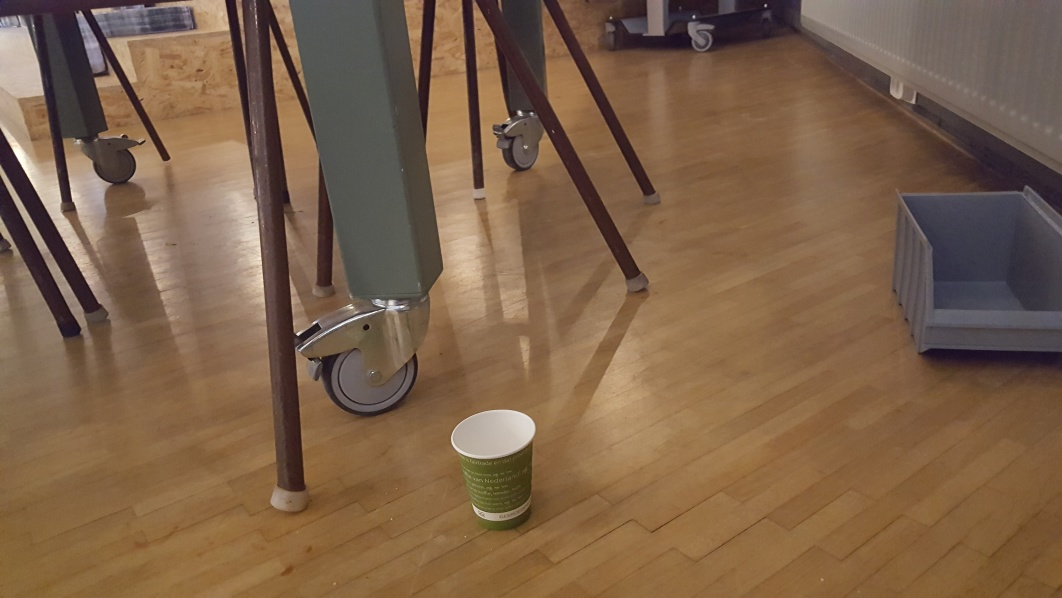cup: (452, 407, 541, 529)
tray: (887, 186, 1062, 359)
